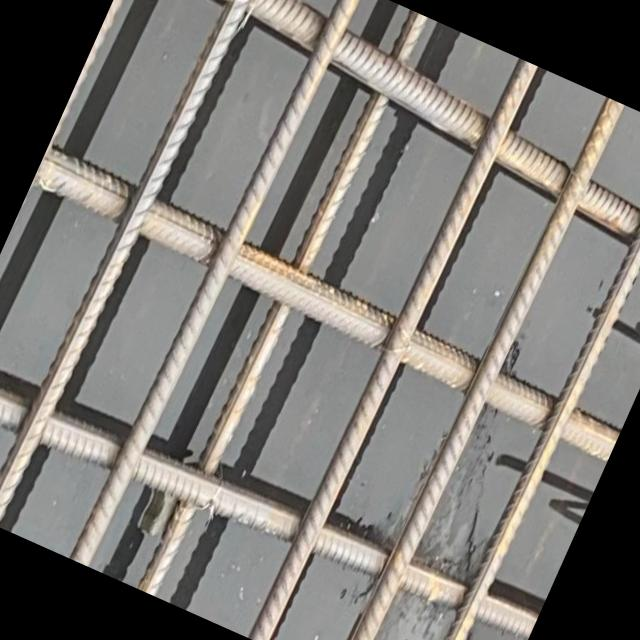ribbed bar: (23, 145, 633, 463), (136, 5, 429, 603), (247, 54, 538, 640), (69, 0, 365, 574), (334, 92, 623, 640), (0, 354, 539, 640), (0, 0, 276, 535), (114, 0, 640, 280), (411, 127, 640, 640)
